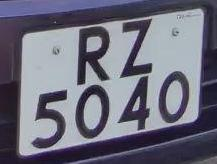0: (71, 80, 119, 149), (154, 66, 195, 130)
4: (117, 69, 156, 139)
5: (25, 84, 76, 157)
R: (66, 19, 119, 86)
Z: (116, 14, 160, 82)
